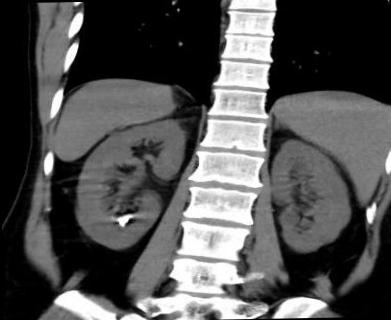Tas_Var: (114, 214, 132, 228)
